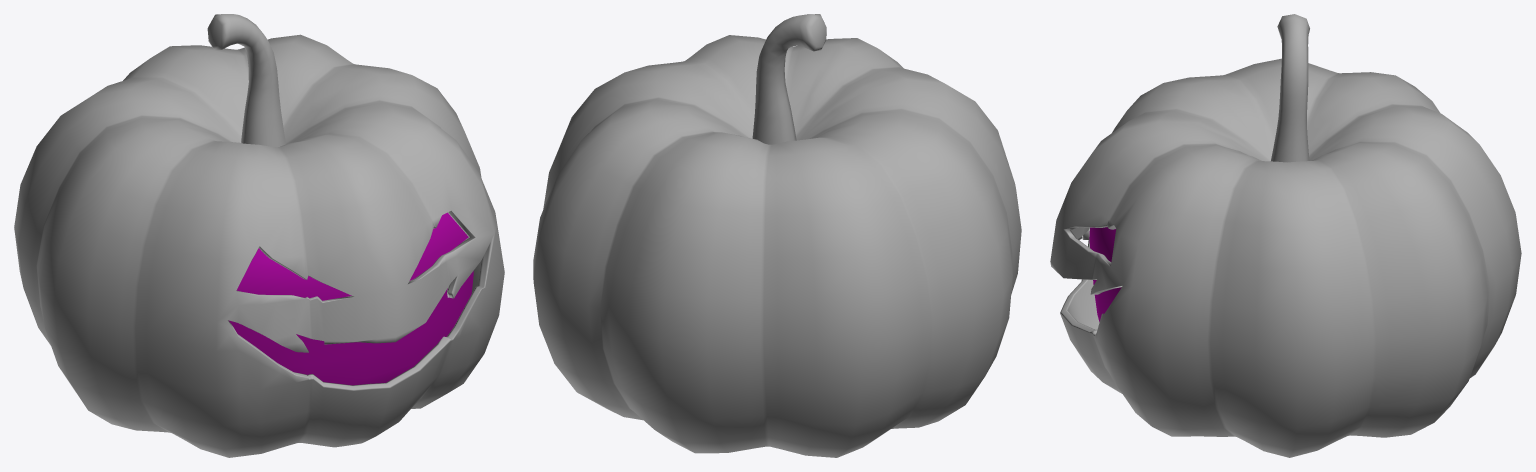
Rendered from Pumpkin Face.fbx.
3 views of the same model, side by side, from view 1: azimuth 30°, elevation 25°; view 2: azimuth 150°, elevation 25°; view 3: azimuth 270°, elevation 25° (orthographic). The views are drawn at different scales.
Visible parts, largest first — view 1: Pumpkin_Face, Glow_Inside; view 2: Pumpkin_Face; view 3: Pumpkin_Face, Glow_Inside.
Boxes of the visible parts, left/top/right/bottom form: Pumpkin_Face: left=14, top=14, right=504, bottom=457; Glow_Inside: left=229, top=212, right=473, bottom=385; Pumpkin_Face: left=533, top=14, right=1021, bottom=457; Pumpkin_Face: left=1050, top=14, right=1521, bottom=457; Glow_Inside: left=1089, top=227, right=1121, bottom=321.
Size of the model in its own units: 3.55 by 3 by 3.53.
